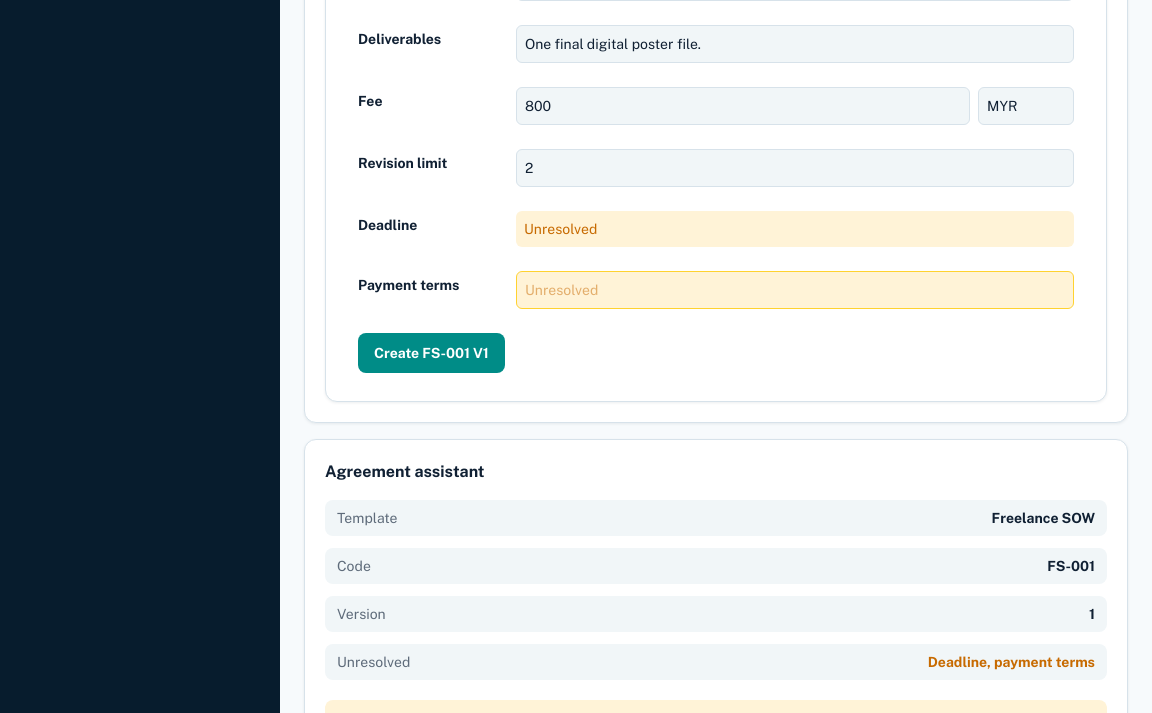
NewProjectPage › loads project data and creates Agreement FS-001 Version 1
The image size is (1152, 713).
(page scrolled)
Expected: the heading "Agreement assistant" is shown, [325,462,484,481]
Expected: the number field showing "800" is shown, [516,87,970,125]
Click the button "Create FS-001 V1": {"x": 431, "y": 353} [358,333,505,373]
(page scrolled)
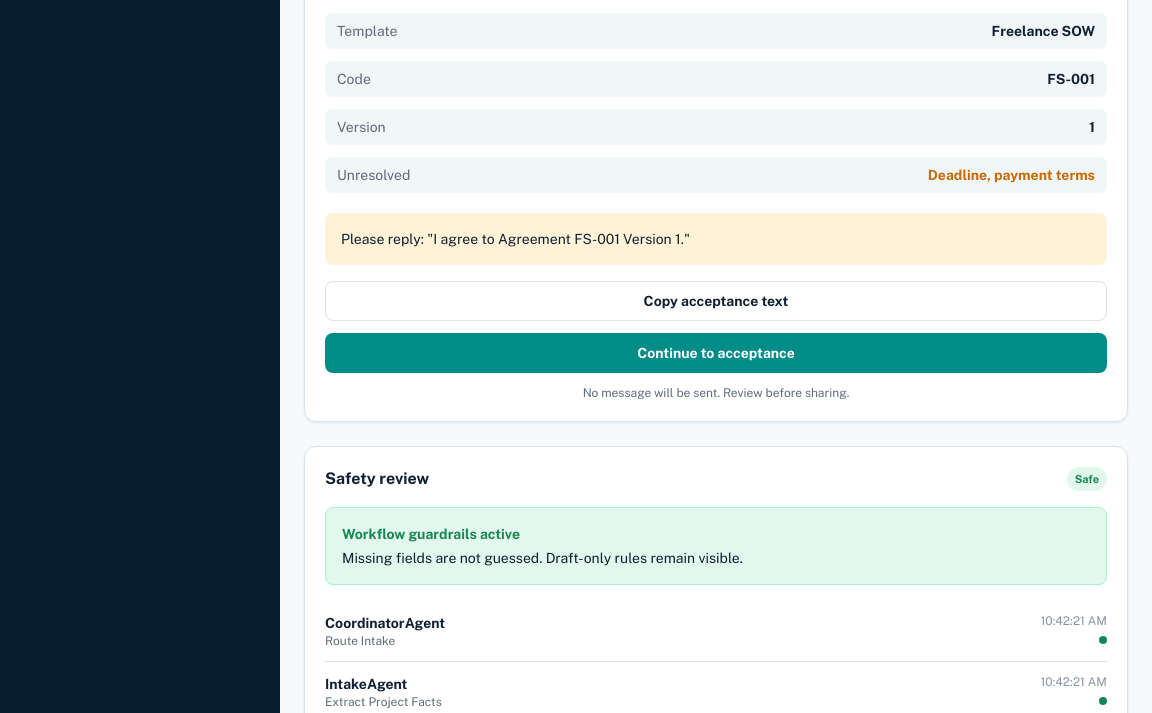
Expected: the text "Please reply: \"I agree to Agreement FS-001 Version 1.\"" is shown, [325,213,1107,265]
